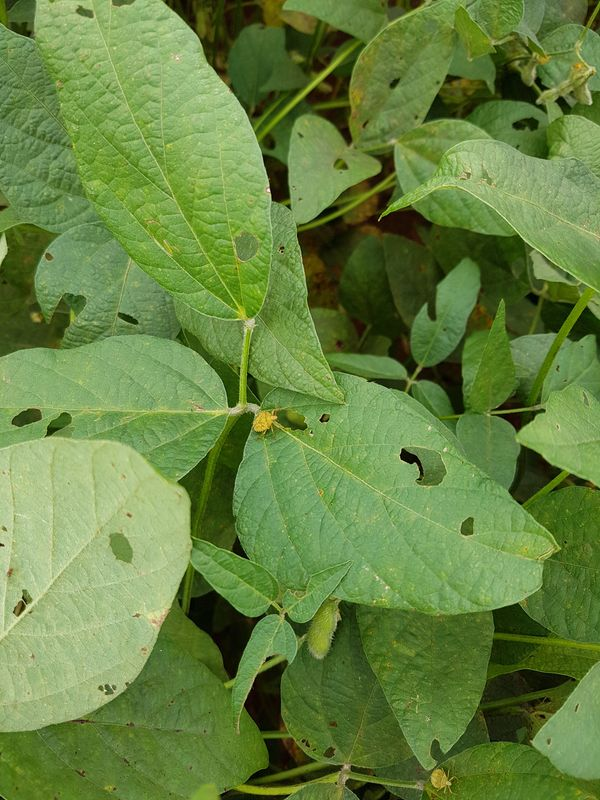Euschistus_heros_ninfa: (413, 757, 469, 798), (241, 400, 292, 444)
